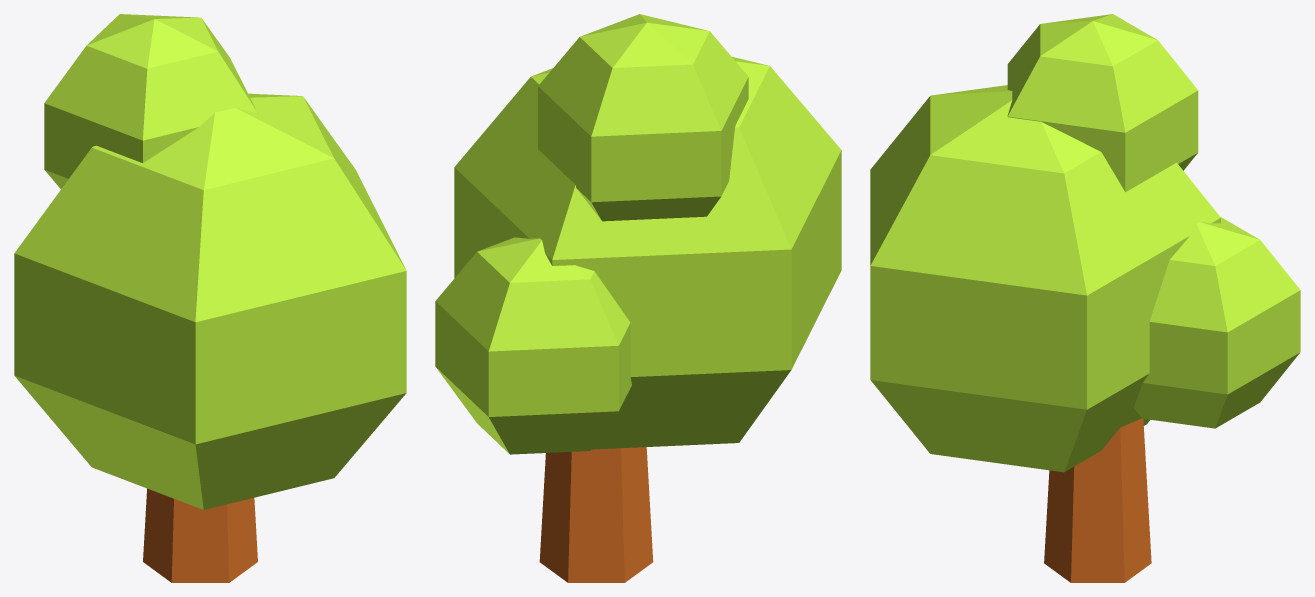
File: Tree1.fbx
The picture shows the model from 3 angles, left to right: view 1: azimuth 30°, elevation 25°; view 2: azimuth 150°, elevation 25°; view 3: azimuth 270°, elevation 25°; orthographic projection. The views are drawn at different scales.
Visible parts, largest first — view 1: Leaves.190, Leaves.189, Trunk.076; view 2: Leaves.190, Leaves.189, Leaves.191, Trunk.076; view 3: Leaves.190, Leaves.191, Leaves.189, Trunk.076.
Part boxes in pixels (x1=…): Leaves.190: x1=14, y1=93, x2=406, y2=509; Leaves.189: x1=44, y1=14, x2=257, y2=188; Trunk.076: x1=143, y1=488, x2=257, y2=582; Leaves.190: x1=454, y1=56, x2=841, y2=449; Leaves.189: x1=538, y1=14, x2=748, y2=221; Leaves.191: x1=435, y1=237, x2=631, y2=454; Trunk.076: x1=539, y1=447, x2=653, y2=582; Leaves.190: x1=870, y1=85, x2=1220, y2=472; Leaves.191: x1=1133, y1=217, x2=1300, y2=428; Leaves.189: x1=1007, y1=14, x2=1198, y2=192; Trunk.076: x1=1044, y1=418, x2=1151, y2=582.
Bounding box in the file's own units: 695 × 1082 × 811.
